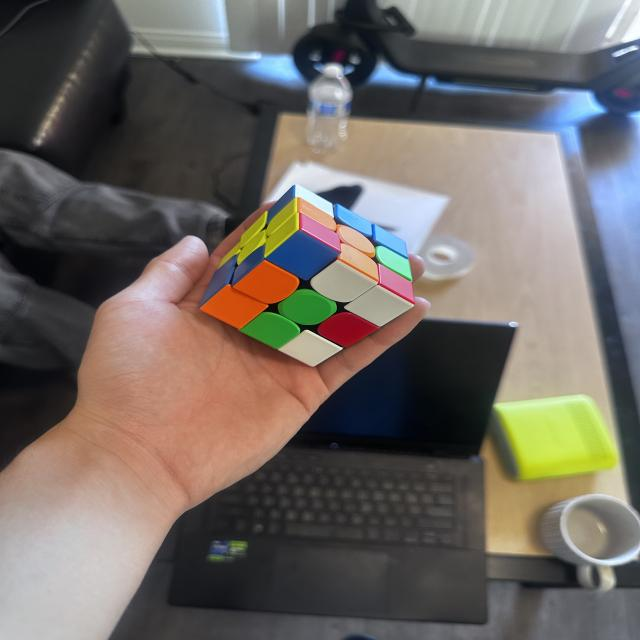sticker: (269, 230, 338, 279), (312, 261, 376, 304), (202, 286, 267, 328), (235, 262, 296, 304), (346, 287, 411, 326), (320, 312, 379, 348), (241, 312, 300, 348), (279, 290, 338, 325), (283, 332, 339, 367)
